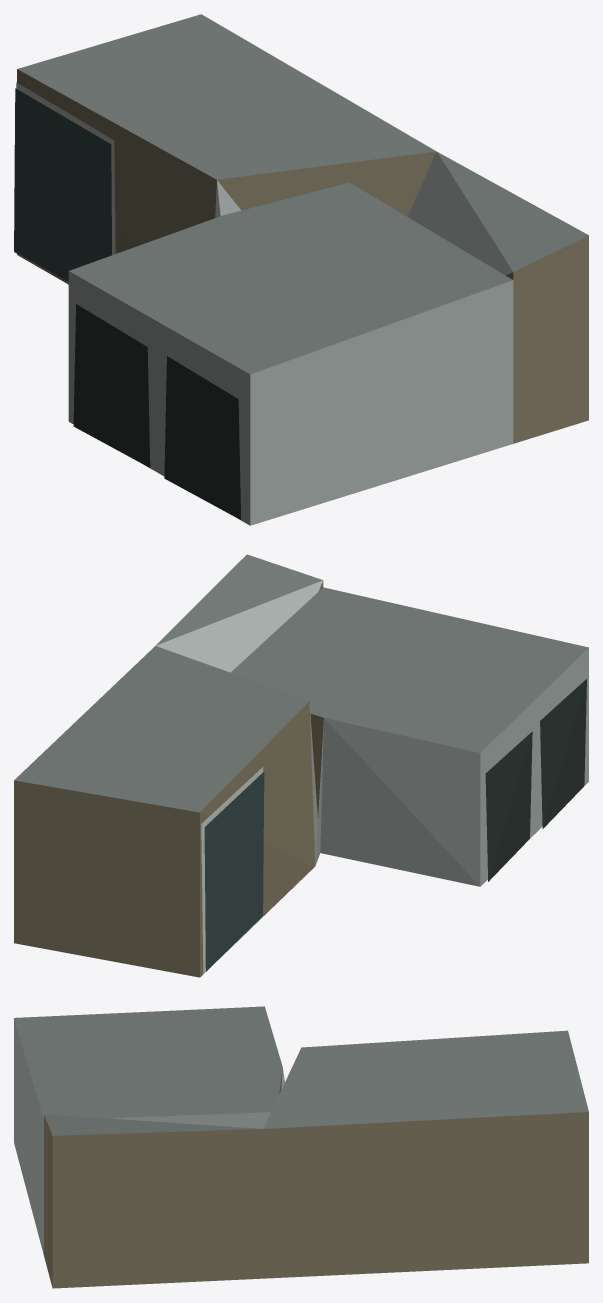
The model's file is fire-station-driemond.lod2.glb.
The picture shows the model from 3 angles, top to bottom: view 1: azimuth 30°, elevation 25°; view 2: azimuth 150°, elevation 25°; view 3: azimuth 270°, elevation 25°; orthographic projection. The views are drawn at different scales.
Parts seen in each view (by area): view 1: lod2; view 2: lod2; view 3: lod2.
Part boxes in pixels (x1=…): lod2: x1=14, y1=14, x2=588, y2=525; lod2: x1=14, y1=554, x2=588, y2=977; lod2: x1=14, y1=1006, x2=588, y2=1288.
Size of the model in its own units: 15.82 by 7.14 by 24.25.
